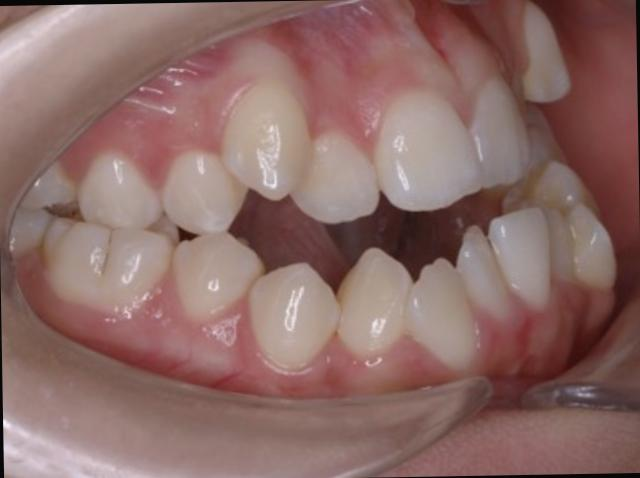canine class III-3/4: (215, 78, 414, 368)
